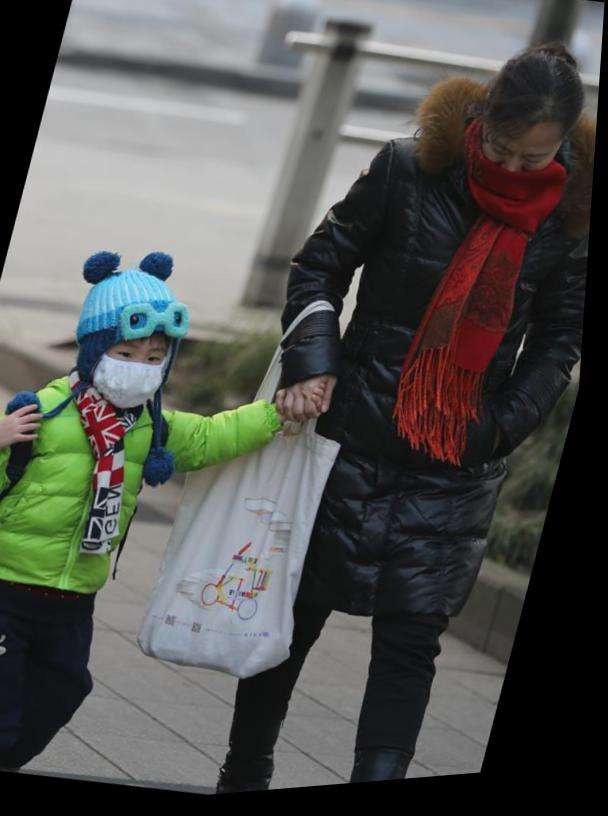OK: (89, 323, 188, 421)
WRONG: (479, 132, 565, 219)
